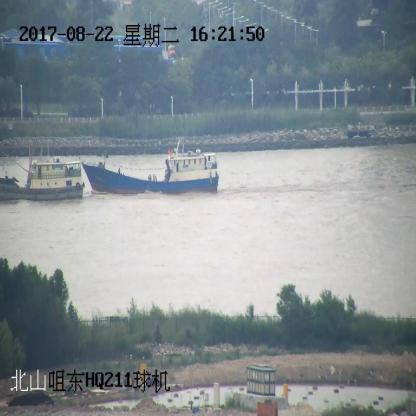Fishing Boat: (81, 136, 219, 196), (0, 143, 85, 201)
